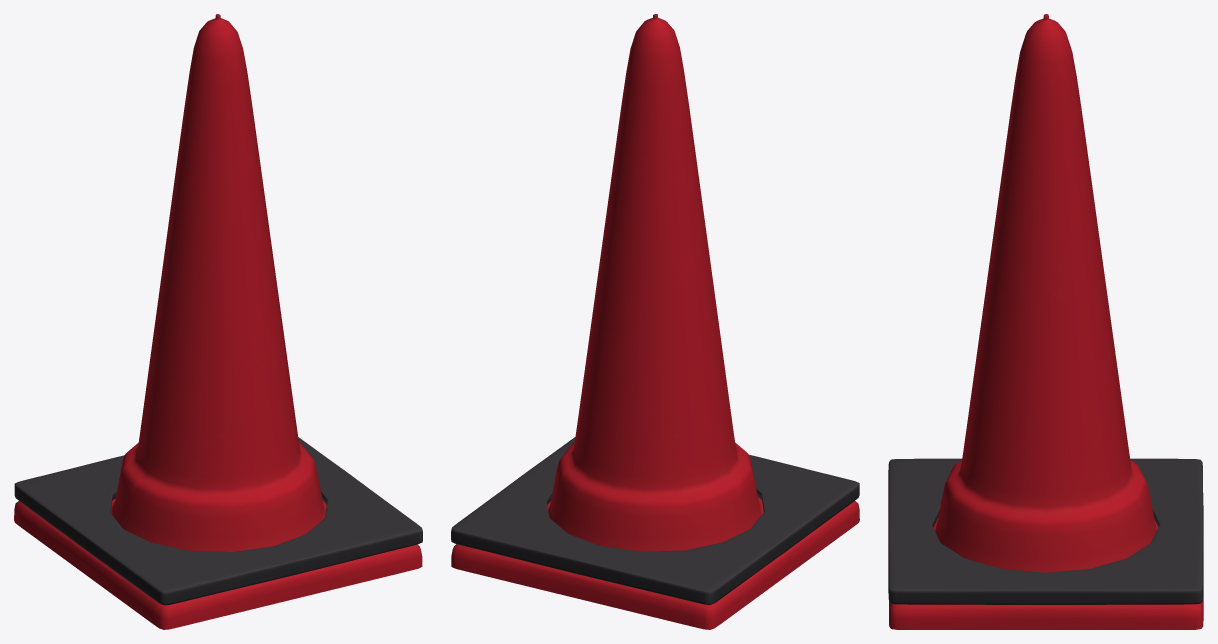
The model's file is ColorCone_Basic_Red.fbx.
3 renders of one model, left to right at view 1: azimuth 30°, elevation 25°; view 2: azimuth 150°, elevation 25°; view 3: azimuth 270°, elevation 25°, orthographic. The views are drawn at different scales.
Visible parts, largest first — view 1: ColorCone_Basic_Red; view 2: ColorCone_Basic_Red; view 3: ColorCone_Basic_Red.
Part boxes in pixels (x1,y1,x2,y2): ColorCone_Basic_Red: [14, 14, 422, 629]; ColorCone_Basic_Red: [451, 14, 859, 629]; ColorCone_Basic_Red: [888, 14, 1203, 629].
Size of the model in its own units: 38.04 by 38.06 by 73.14.
1 material, 1 textured.
